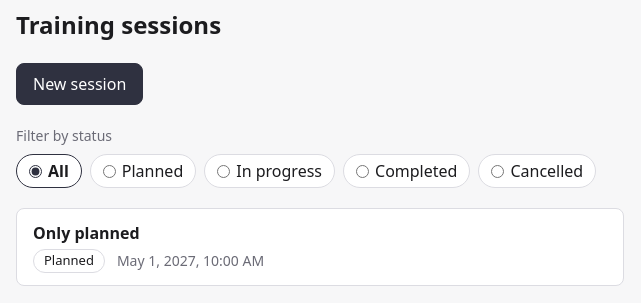
Test: status filter › shows a filtered empty message when no session has the selected status
The image size is (641, 303).
expect the text "Only planned" is shown: met, box [33,222,140,244]
Click the radio button labelled "Cancelled". click: (498, 171)
box: [491,164,504,178]
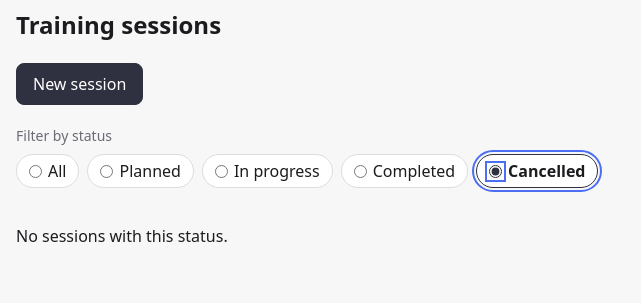
expect the text "No sessions with this status." is shown: met, box [16,224,228,248]
